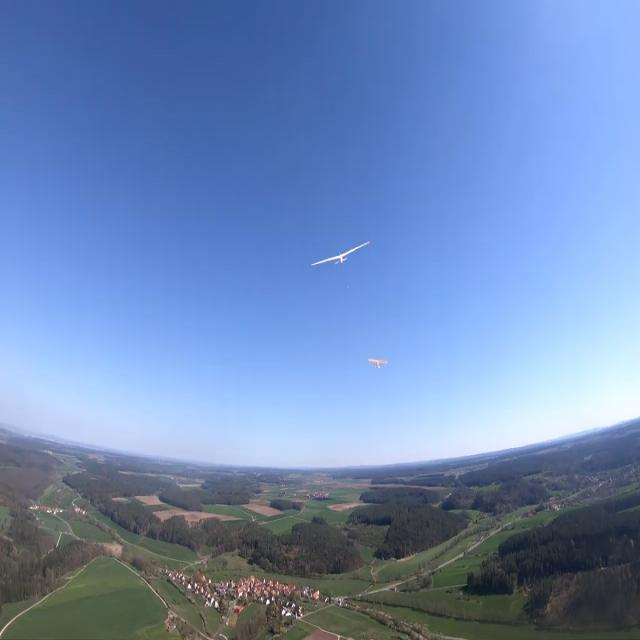iha: (312, 240, 372, 270), (369, 361, 389, 368)
